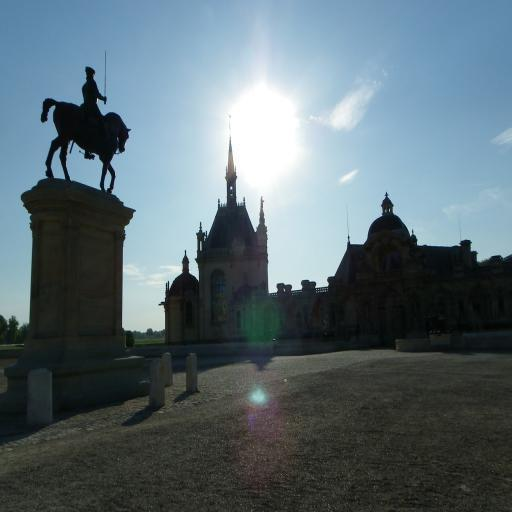horse: (40, 94, 132, 196)
